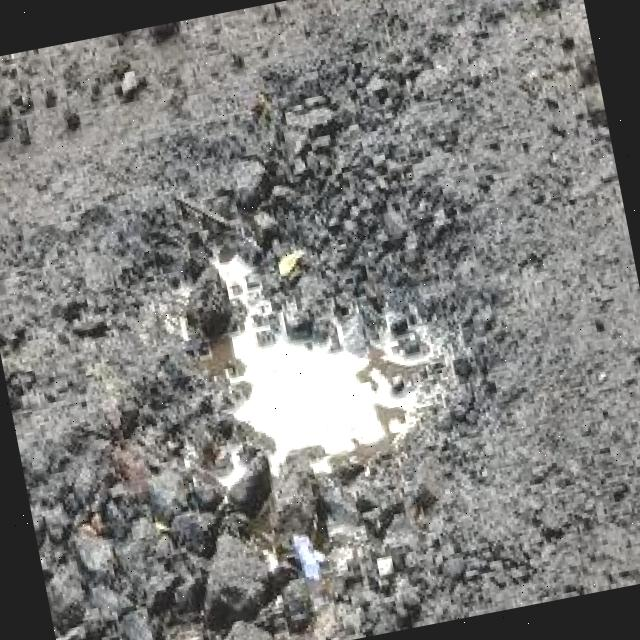stagnation: (117, 157, 514, 534)
